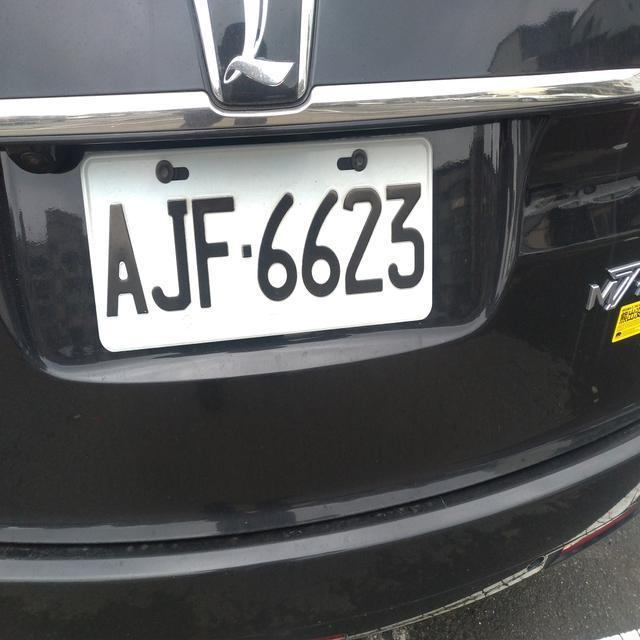license: (82, 176, 435, 328)
